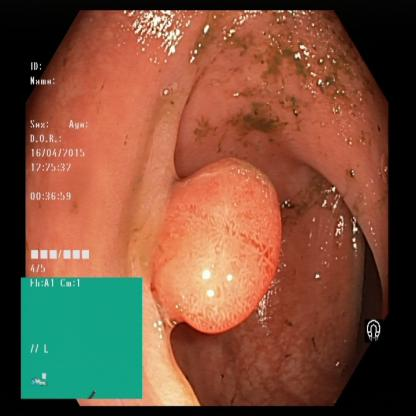Labels: (28, 53, 101, 277), (22, 276, 143, 398), (360, 316, 390, 349)
Polyps: (157, 160, 291, 340)
